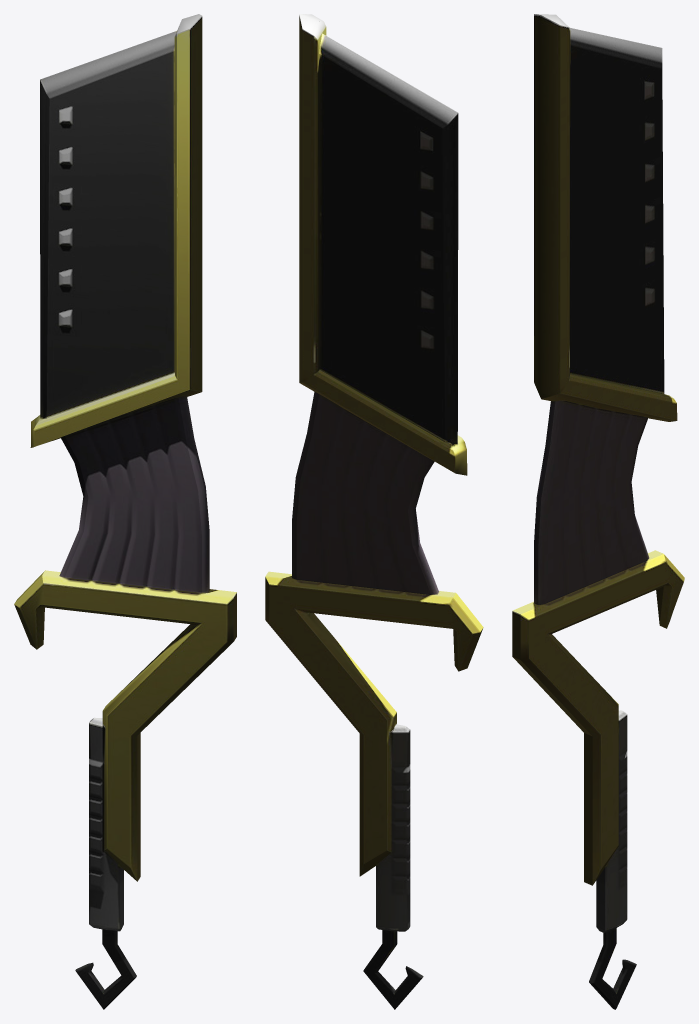
3 renders of one model, left to right at view 1: azimuth 30°, elevation 25°; view 2: azimuth 210°, elevation 25°; view 3: azimuth 270°, elevation 25°, orthographic. The views are drawn at different scales.
Parts seen in each view (by area): view 1: Blade_reduced; view 2: Blade_reduced; view 3: Blade_reduced.
Boxes of the visible parts, x1,y1,x2,y2 form: Blade_reduced: (14, 14, 236, 1009); Blade_reduced: (265, 14, 483, 1009); Blade_reduced: (512, 14, 684, 1009).
Bounding box in the file's own units: 15.84 × 104 × 15.84.
1 material, 1 textured.
